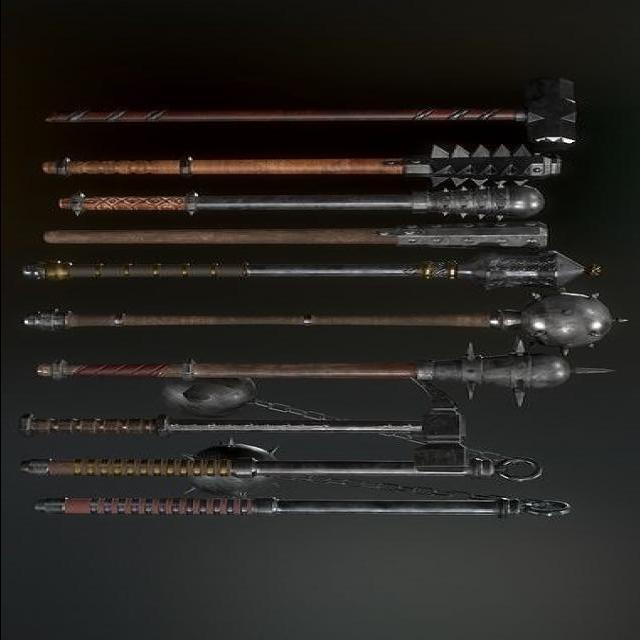mace: (23, 291, 628, 357), (35, 348, 617, 409), (40, 145, 564, 188), (22, 253, 605, 289), (55, 184, 545, 222), (43, 223, 552, 252)
war hammer: (40, 77, 579, 147)
